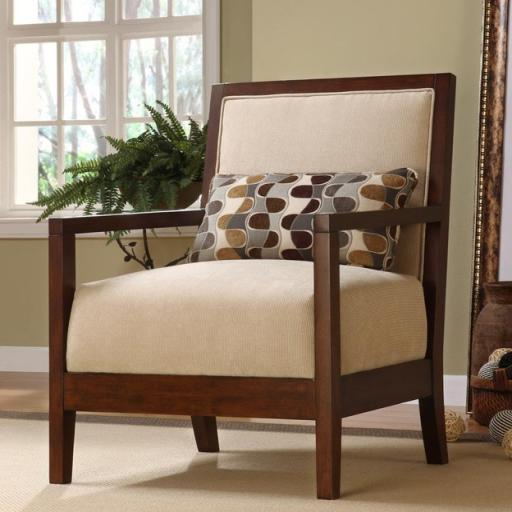chair: (35, 59, 470, 498)
